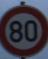Speed Limit -80-: (0, 0, 47, 58)
